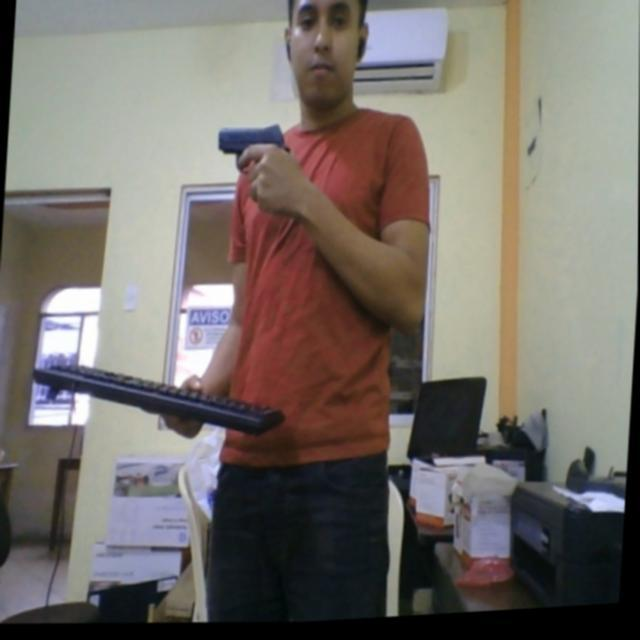weapon: (212, 114, 298, 204)
